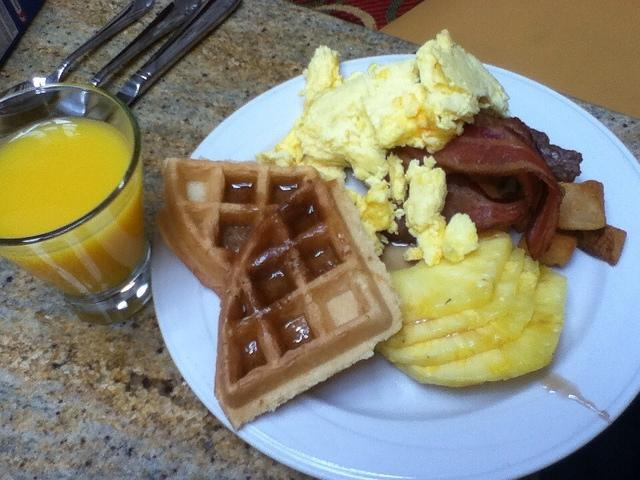pineapple: (389, 264, 567, 389), (375, 256, 540, 366), (381, 245, 526, 349), (386, 229, 514, 325)
